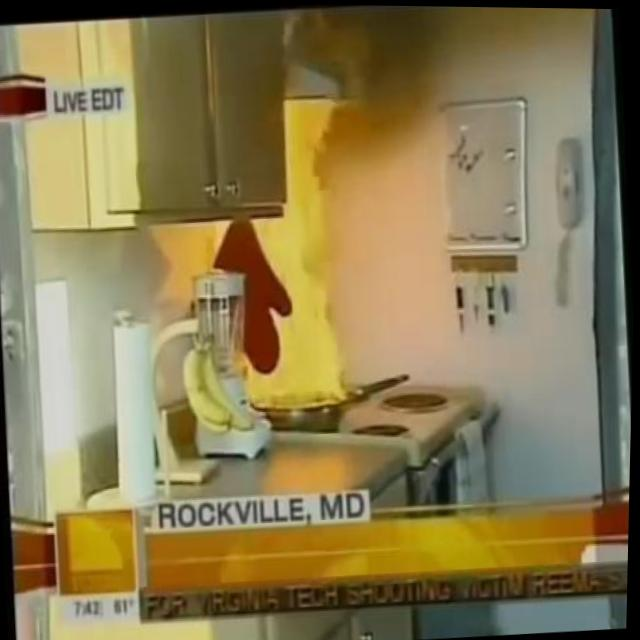fire: (192, 87, 390, 416)
